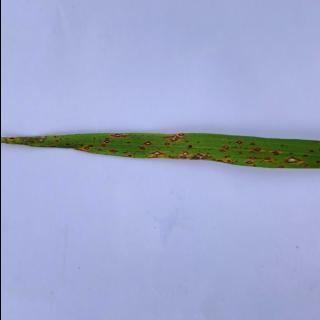Blast: (285, 156, 301, 166), (190, 153, 210, 161), (164, 134, 180, 142), (110, 132, 124, 140), (150, 150, 162, 156), (142, 140, 150, 148), (181, 150, 187, 156)
